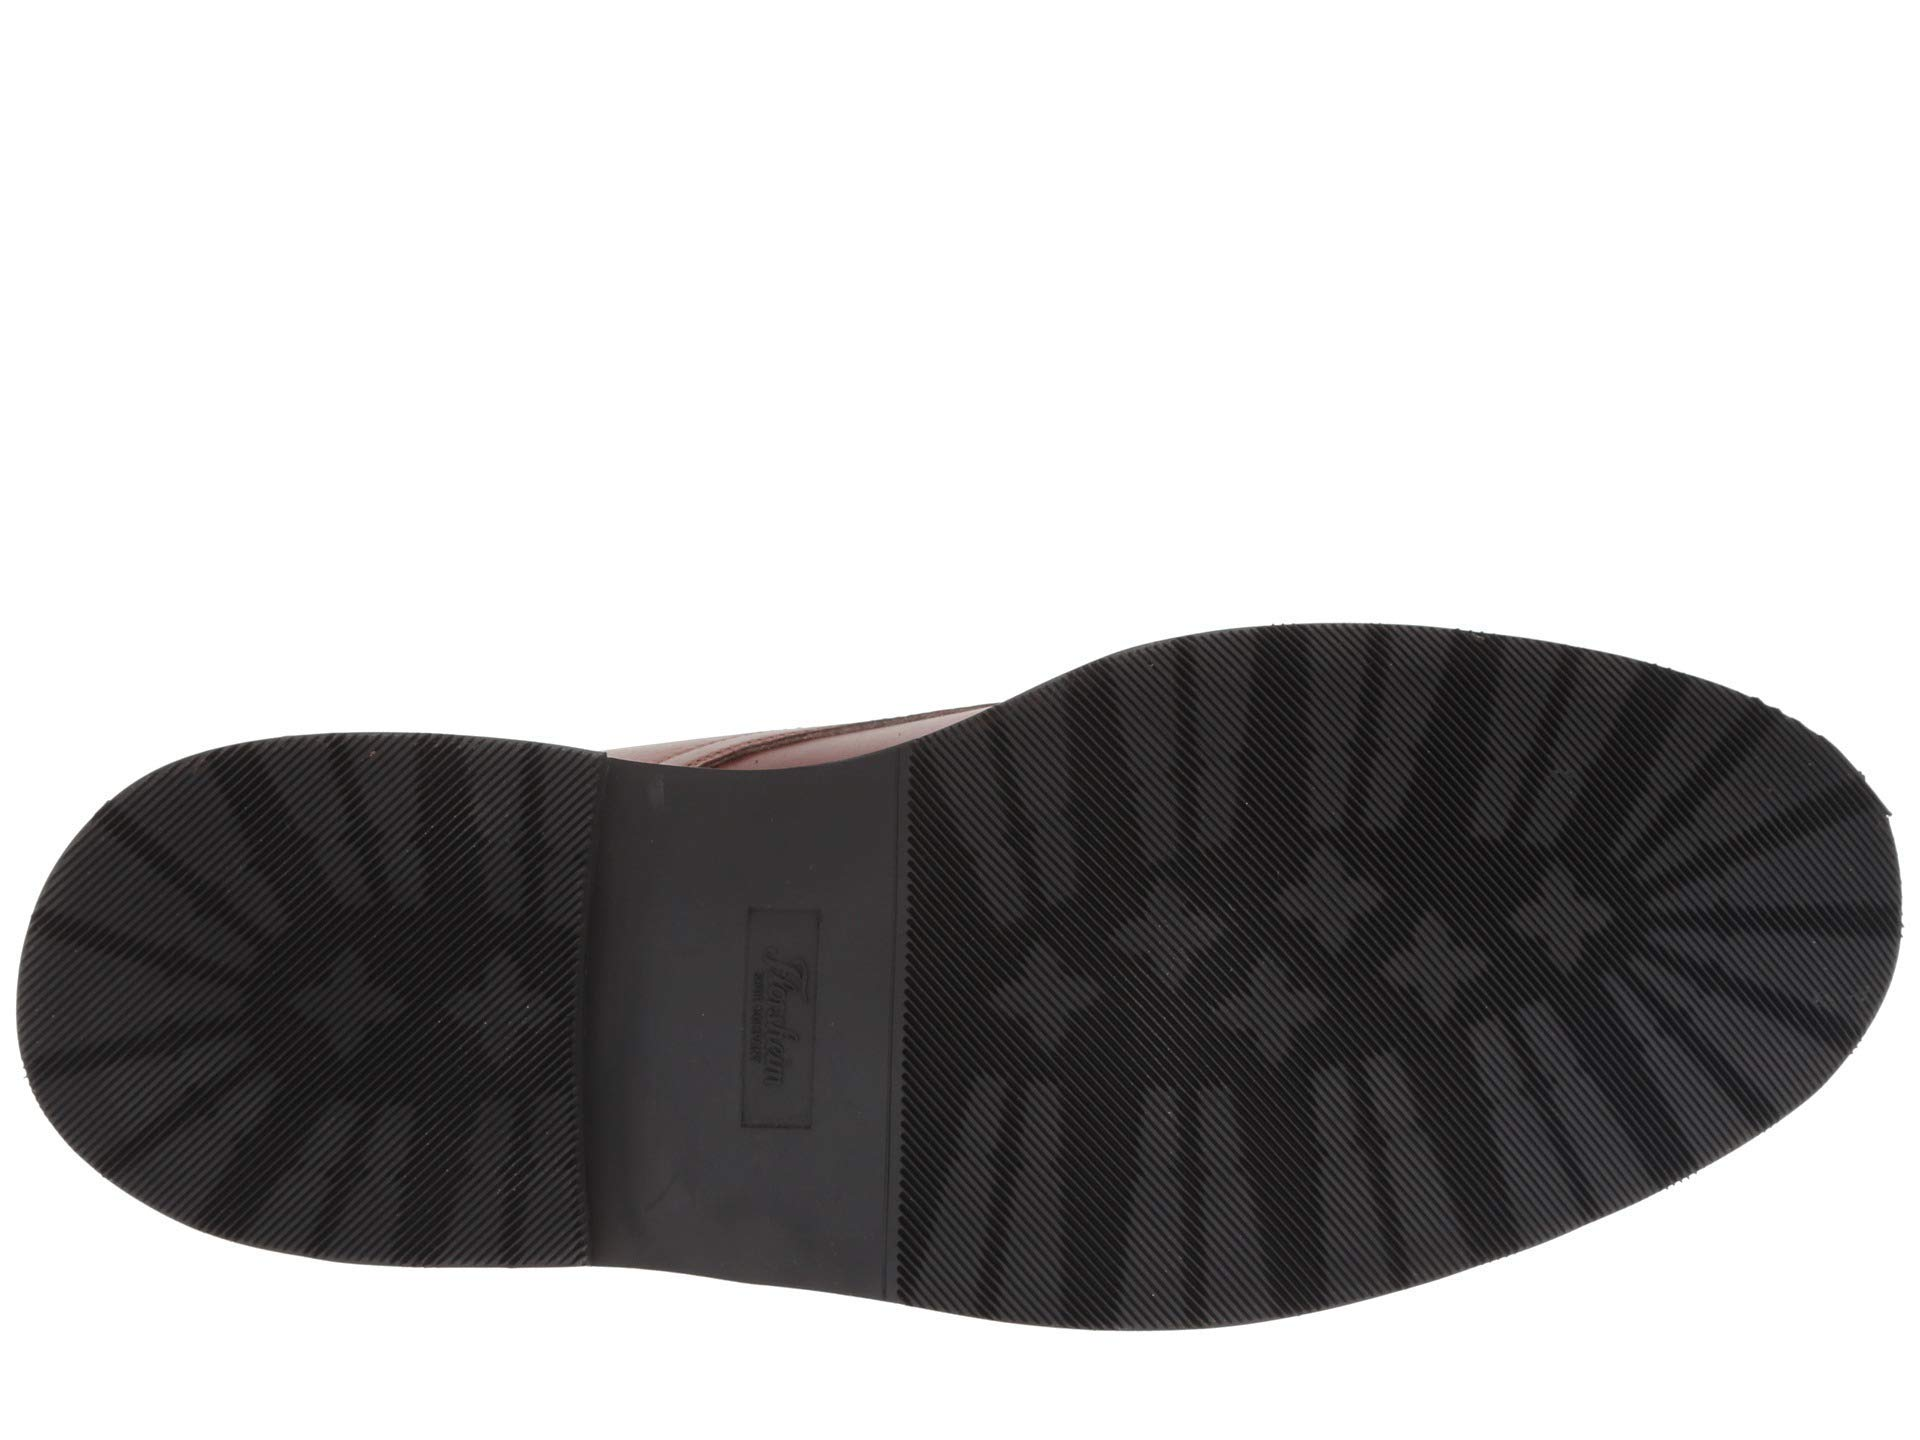bowtie: (998, 702, 1547, 1324)
line: (998, 702, 1547, 1324)
star: (998, 702, 1547, 1324)
